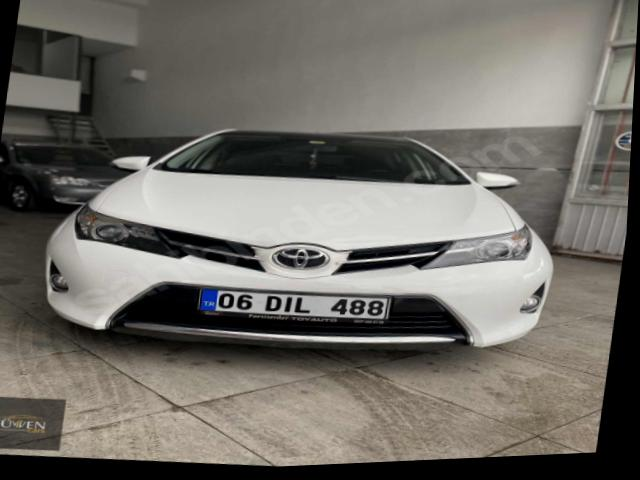plaka: (197, 288, 390, 322)
